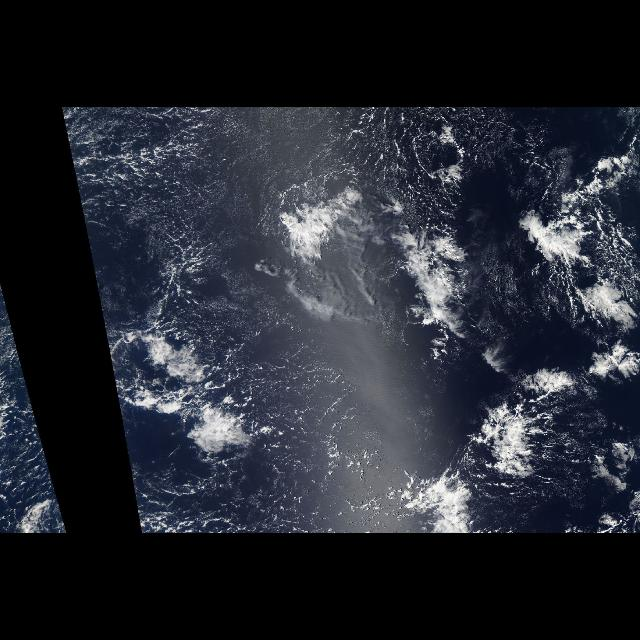Fish: (381, 198, 619, 480)
Flower: (452, 173, 636, 533)
Sugar: (60, 110, 420, 340)
